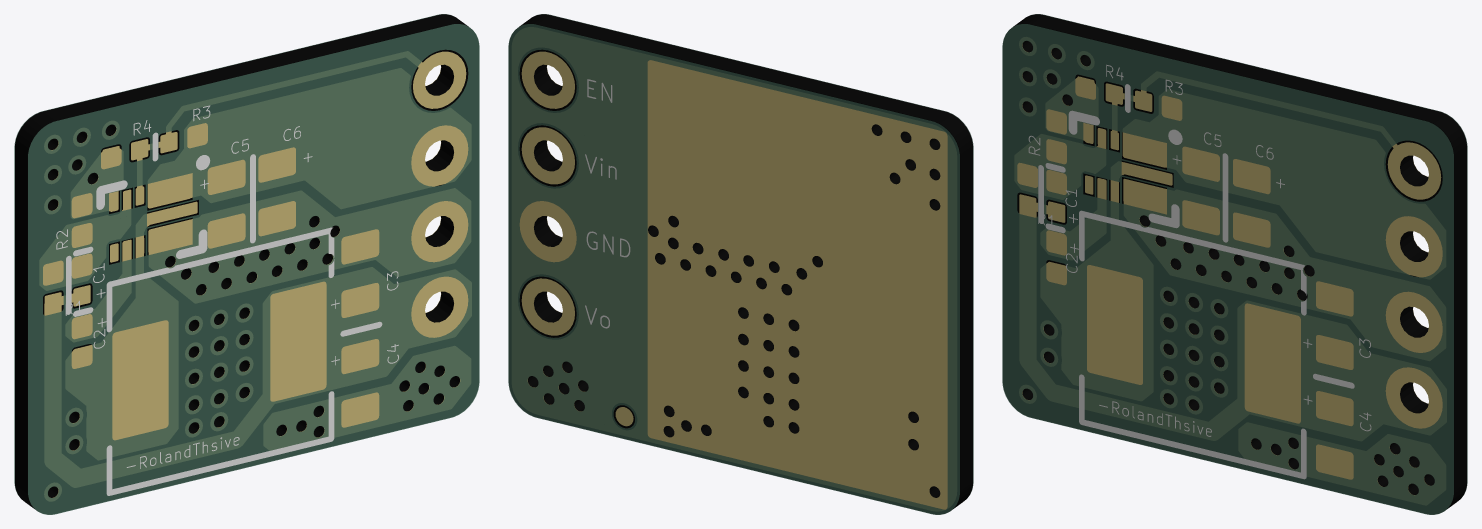
The model's file is BuckRegulator_small_5v_AP63357DV7_Version5_2v(Corrected).glb.
3 views of the same model, side by side, from view 1: azimuth 30°, elevation 25°; view 2: azimuth 150°, elevation 25°; view 3: azimuth 330°, elevation 25° (orthographic).
Visible parts, largest first — view 1: Shape_4, Shape_2, Shape, Shape_3, Shape_1, Shape_7, Shape_6; view 2: Shape_5, Shape_6, Shape_1, Shape, Shape_4, Shape_8; view 3: Shape_4, Shape_2, Shape, Shape_3, Shape_1, Shape_7, Shape_6.
Boxes of the visible parts, x1=… form: Shape_4: x1=28, y1=24, x2=479, y2=514; Shape_2: x1=40, y1=51, x2=471, y2=500; Shape: x1=27, y1=23, x2=478, y2=513; Shape_3: x1=44, y1=125, x2=377, y2=438; Shape_1: x1=15, y1=14, x2=467, y2=508; Shape_7: x1=56, y1=105, x2=398, y2=495; Shape_6: x1=14, y1=14, x2=449, y2=496; Shape_5: x1=512, y1=27, x2=956, y2=510; Shape_6: x1=508, y1=24, x2=959, y2=514; Shape_1: x1=520, y1=14, x2=972, y2=508; Shape: x1=509, y1=23, x2=960, y2=513; Shape_4: x1=538, y1=14, x2=973, y2=496; Shape_8: x1=585, y1=79, x2=630, y2=328; Shape_4: x1=1002, y1=24, x2=1453, y2=514; Shape_2: x1=1015, y1=37, x2=1446, y2=504; Shape: x1=1003, y1=23, x2=1454, y2=513; Shape_3: x1=1019, y1=76, x2=1351, y2=477; Shape_1: x1=1014, y1=14, x2=1466, y2=508; Shape_7: x1=1028, y1=64, x2=1371, y2=479; Shape_6: x1=1032, y1=14, x2=1467, y2=496.
Size of the model in its own units: 15.88 by 13.21 by 0.949.
